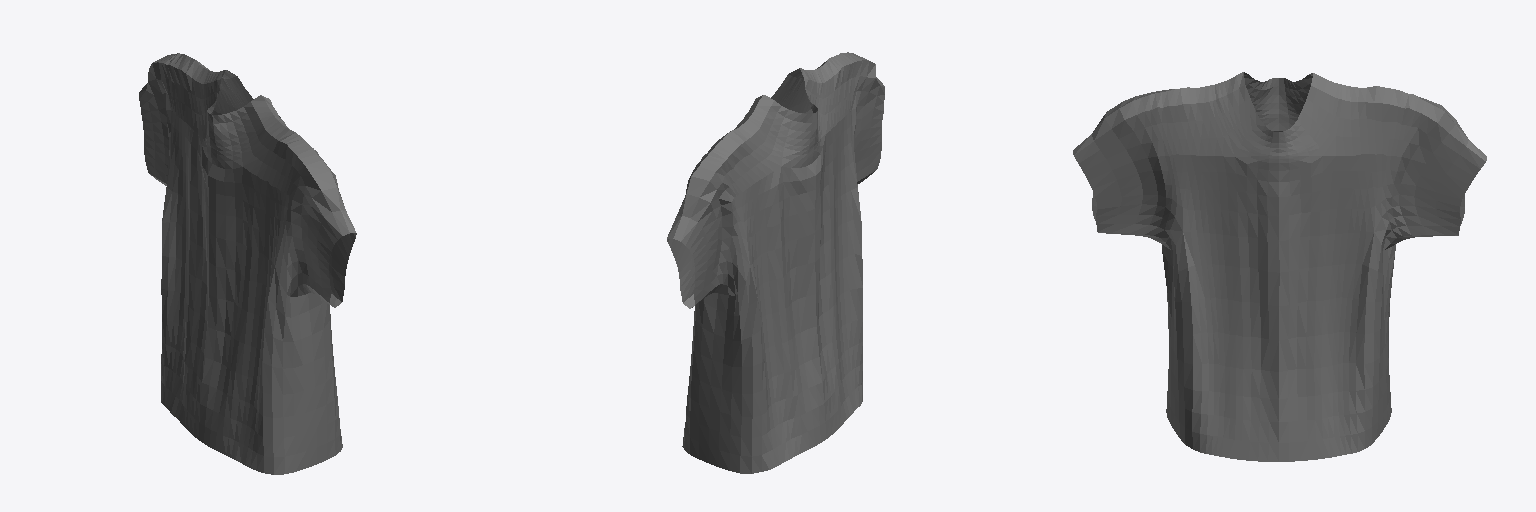
File: tshirt.obj
The picture shows the model from 3 angles: view 1: azimuth 30°, elevation 25°; view 2: azimuth 150°, elevation 25°; view 3: azimuth 270°, elevation 25°; orthographic projection.
Visible parts, largest first — view 1: pCylinder6; view 2: pCylinder6; view 3: pCylinder6.
Boxes of the visible parts, <box> form: pCylinder6: <box>139,53,356,474</box>; pCylinder6: <box>667,52,884,473</box>; pCylinder6: <box>1073,72,1486,461</box>.
Bounding box in the file's own units: 1.71 × 5 × 5.28.